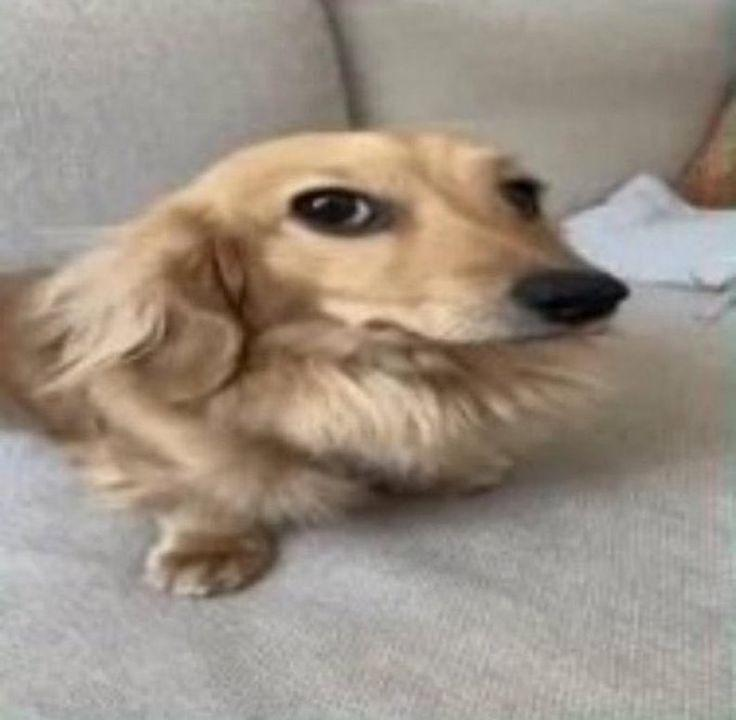adult_dog: (0, 119, 635, 599)
